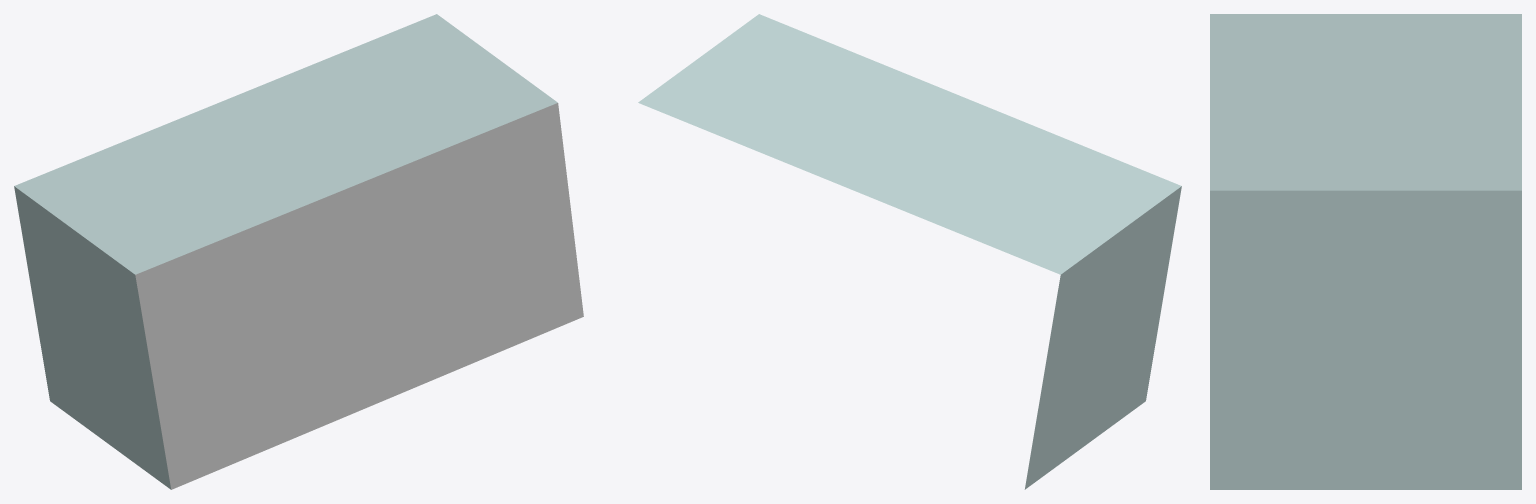
3 renders of one model, left to right at view 1: azimuth 30°, elevation 25°; view 2: azimuth 150°, elevation 25°; view 3: azimuth 270°, elevation 25°, orthographic. The views are drawn at different scales.
Parts seen in each view (by area): view 1: 0_3_2_1_1_0_0_1_2; view 2: 0_3_2_1_1_0_0_1_2; view 3: 0_3_2_1_1_0_0_1_2.
Part boxes in pixels (x1=…): 0_3_2_1_1_0_0_1_2: x1=14, y1=14, x2=583, y2=489; 0_3_2_1_1_0_0_1_2: x1=638, y1=14, x2=1181, y2=489; 0_3_2_1_1_0_0_1_2: x1=1210, y1=14, x2=1521, y2=489.
Bounding box in the file's own units: 6.41 × 4 × 3.
